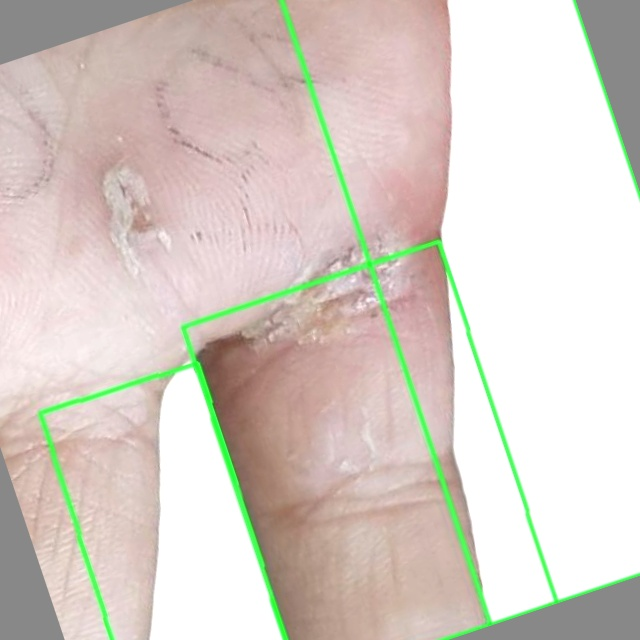Scabies: (281, 0, 639, 624), (182, 241, 558, 639), (41, 362, 285, 639)
